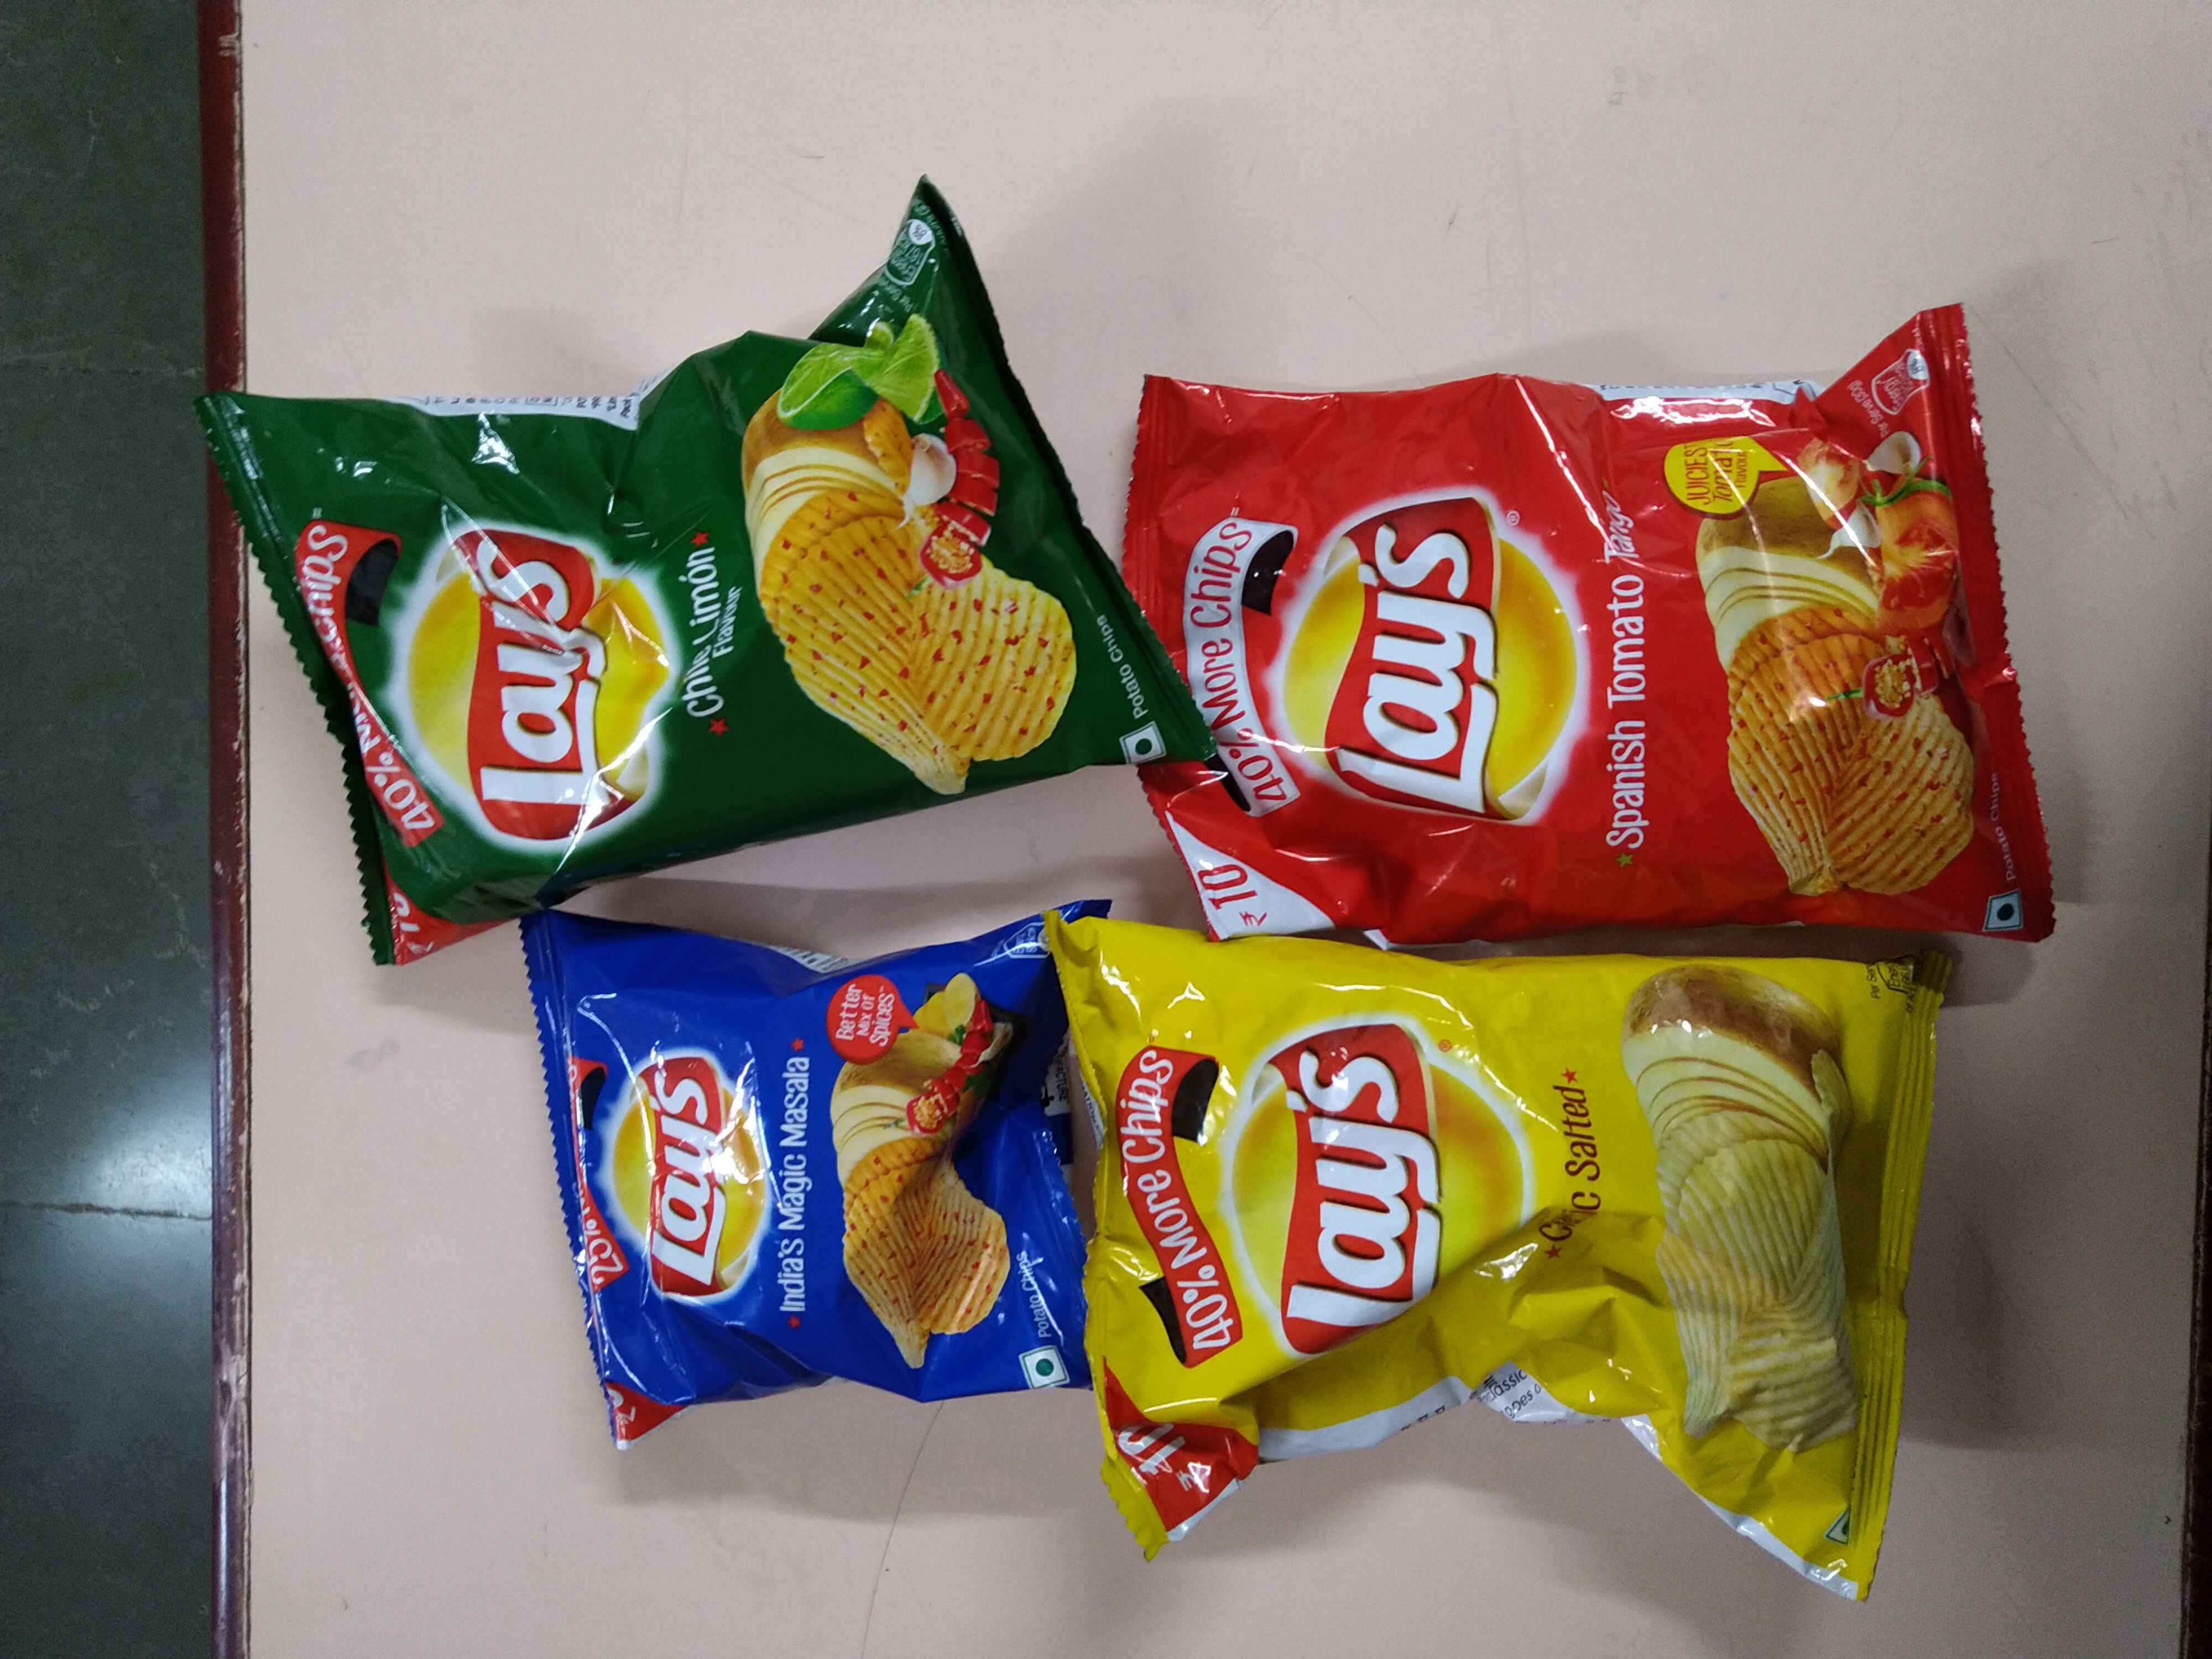Lays: (1278, 479, 1588, 843), (1214, 1007, 1538, 1345), (392, 497, 686, 845), (615, 1021, 768, 1319)
